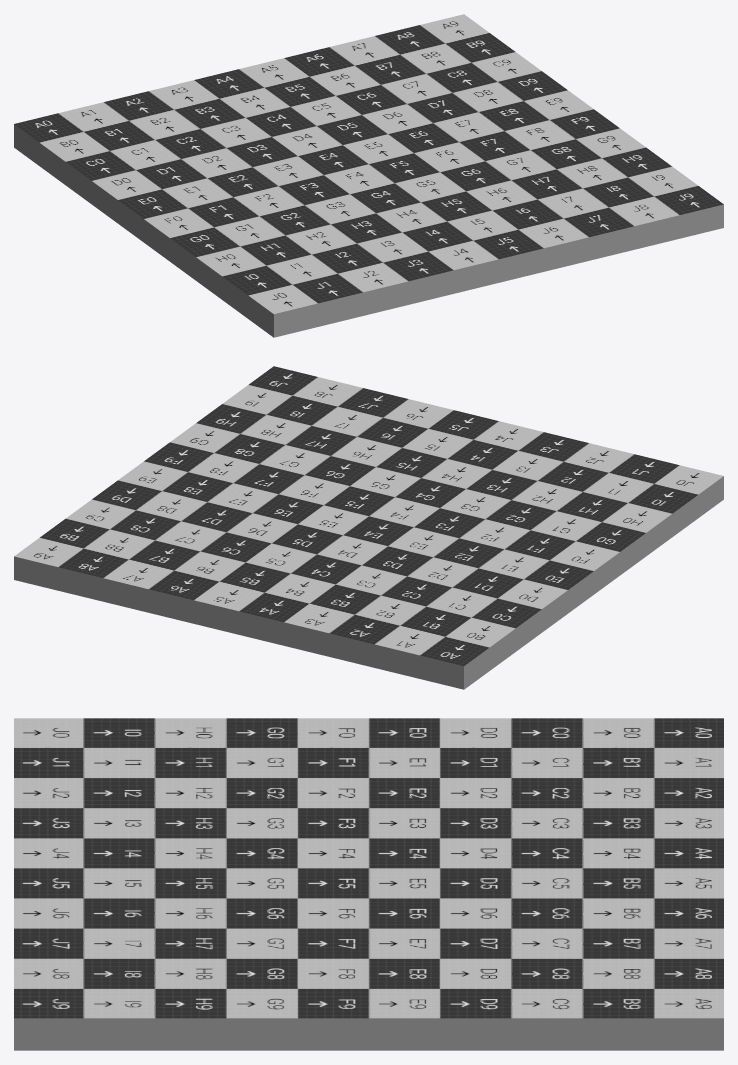
The model's file is yukada.fbx.
3 views of the same model, one above another, from view 1: azimuth 30°, elevation 25°; view 2: azimuth 150°, elevation 25°; view 3: azimuth 270°, elevation 25° (orthographic). The views are drawn at different scales.
Visible parts, largest first — view 1: pCube1; view 2: pCube1; view 3: pCube1.
Boxes of the visible parts, bbox=[...] form: pCube1: bbox=[14, 14, 723, 337]; pCube1: bbox=[14, 366, 723, 689]; pCube1: bbox=[14, 718, 723, 1050].
Size of the model in its own units: 20 by 1 by 20.
Materials: 2 (1 with a texture image).
